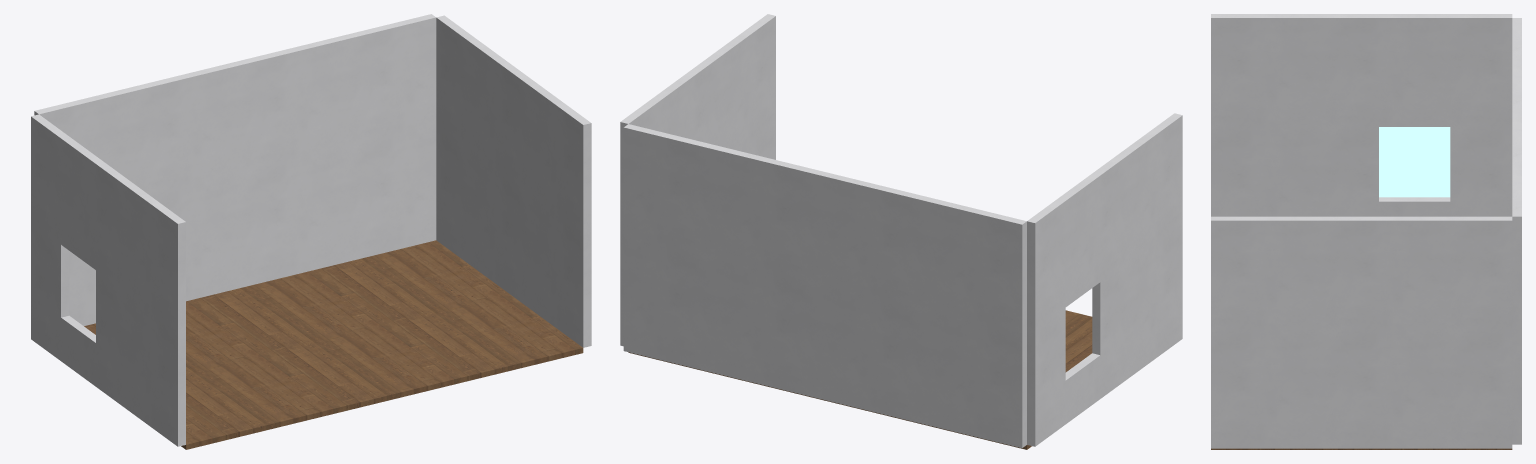
The model's file is empty-apartment.glb.
3 renders of one model, left to right at view 1: azimuth 30°, elevation 25°; view 2: azimuth 150°, elevation 25°; view 3: azimuth 270°, elevation 25°, orthographic. The views are drawn at different scales.
Parts seen in each view (by area): view 1: pbr beveled room shell; view 2: pbr beveled room shell; view 3: pbr beveled room shell, outdoor blue skybox seen through wall hole.
Boxes of the visible parts, <box> form: pbr beveled room shell: <box>31,14,591,449</box>; pbr beveled room shell: <box>620,14,1182,449</box>; pbr beveled room shell: <box>1211,14,1521,449</box>; outdoor blue skybox seen through wall hole: <box>1379,127,1450,197</box>.
Bounding box in the file's own units: 10.72 × 5.32 × 6.42.
Materials: 3 (2 with a texture image).
